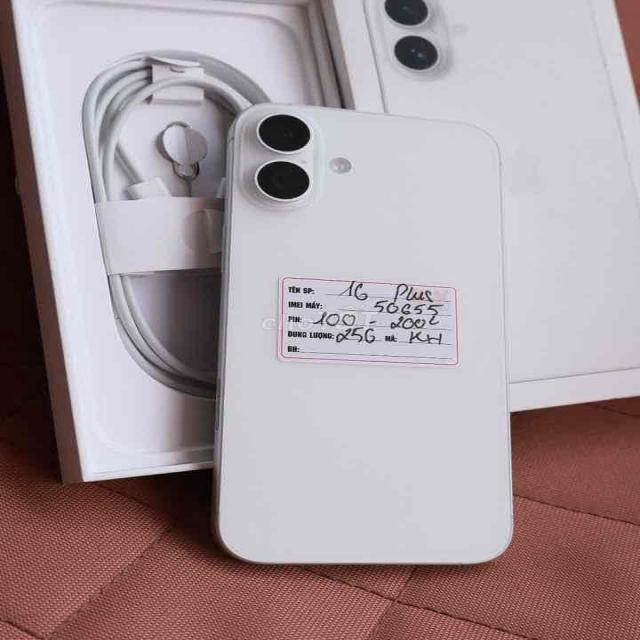gen_16: (200, 102, 540, 577)
